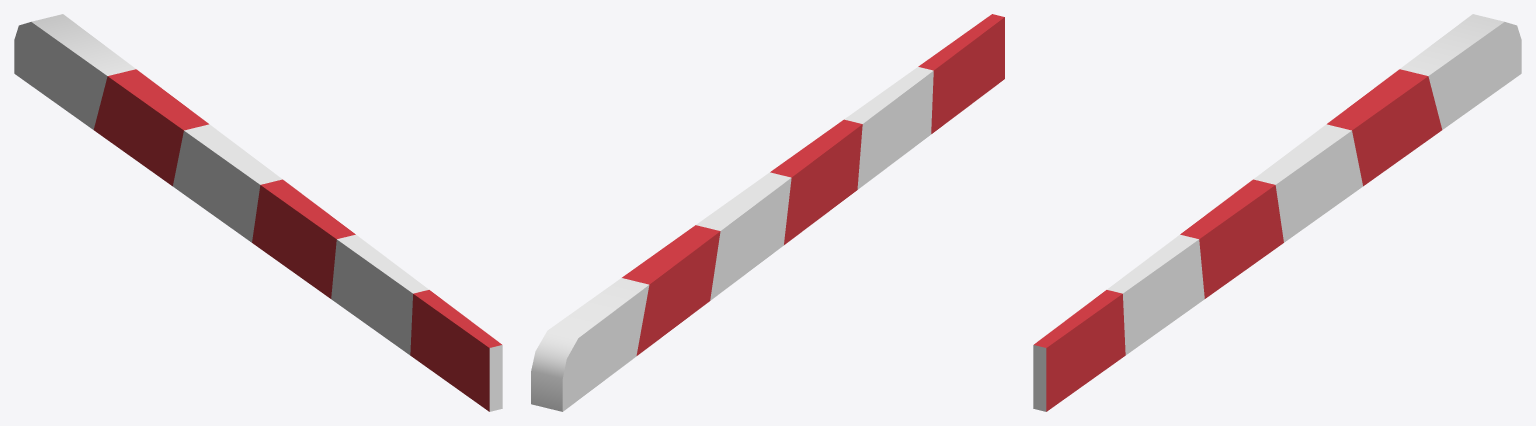
The model's file is Barrera.fbx.
3 views of the same model, side by side, from view 1: azimuth 30°, elevation 25°; view 2: azimuth 150°, elevation 25°; view 3: azimuth 330°, elevation 25° (orthographic). The views are drawn at different scales.
Parts seen in each view (by area): view 1: Barrera; view 2: Barrera; view 3: Barrera.
Boxes of the visible parts, bbox=[...] form: Barrera: bbox=[14, 14, 502, 411]; Barrera: bbox=[531, 14, 1004, 411]; Barrera: bbox=[1033, 14, 1521, 411].
Bounding box in the file's own units: 31.01 × 58.12 × 767.
